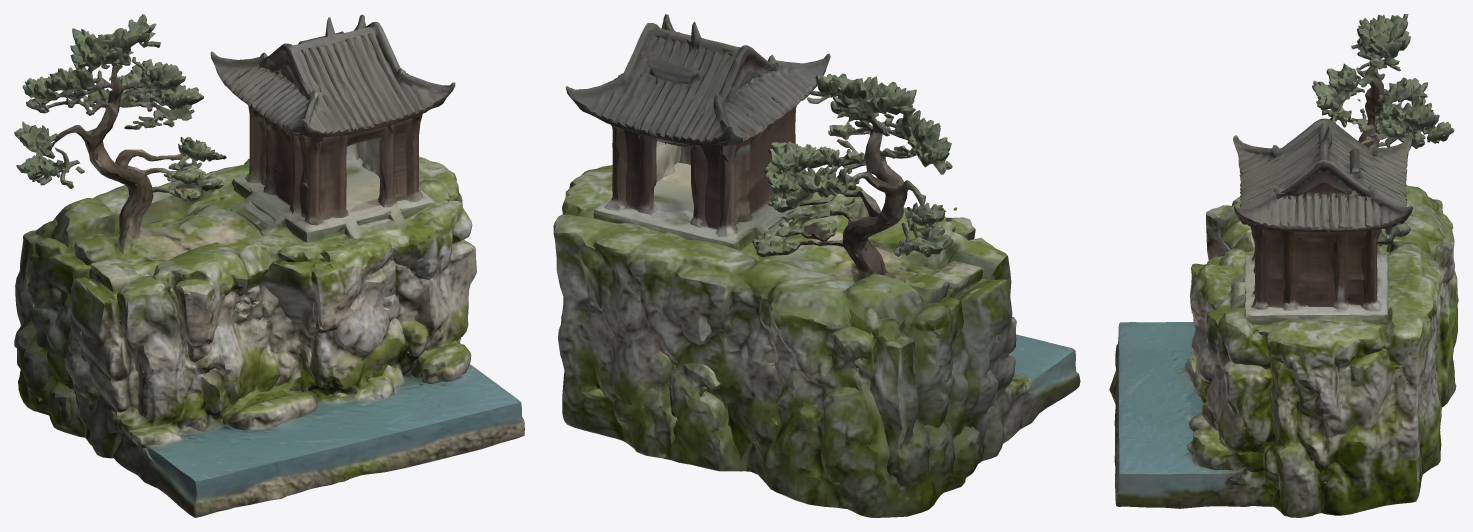
The model's file is cliff_pavilion_opt.glb.
The picture shows the model from 3 angles, left to right: view 1: azimuth 30°, elevation 25°; view 2: azimuth 150°, elevation 25°; view 3: azimuth 270°, elevation 25°; orthographic projection. The views are drawn at different scales.
Visible parts, largest first — view 1: geometry_0; view 2: geometry_0; view 3: geometry_0.
Boxes of the visible parts, x1,y1,x2,y2 form: geometry_0: (14, 14, 524, 517); geometry_0: (553, 14, 1080, 517); geometry_0: (1109, 14, 1458, 517).
Bounding box in the file's own units: 0.35 × 0.3234 × 0.2865.
1 material, 1 textured.
